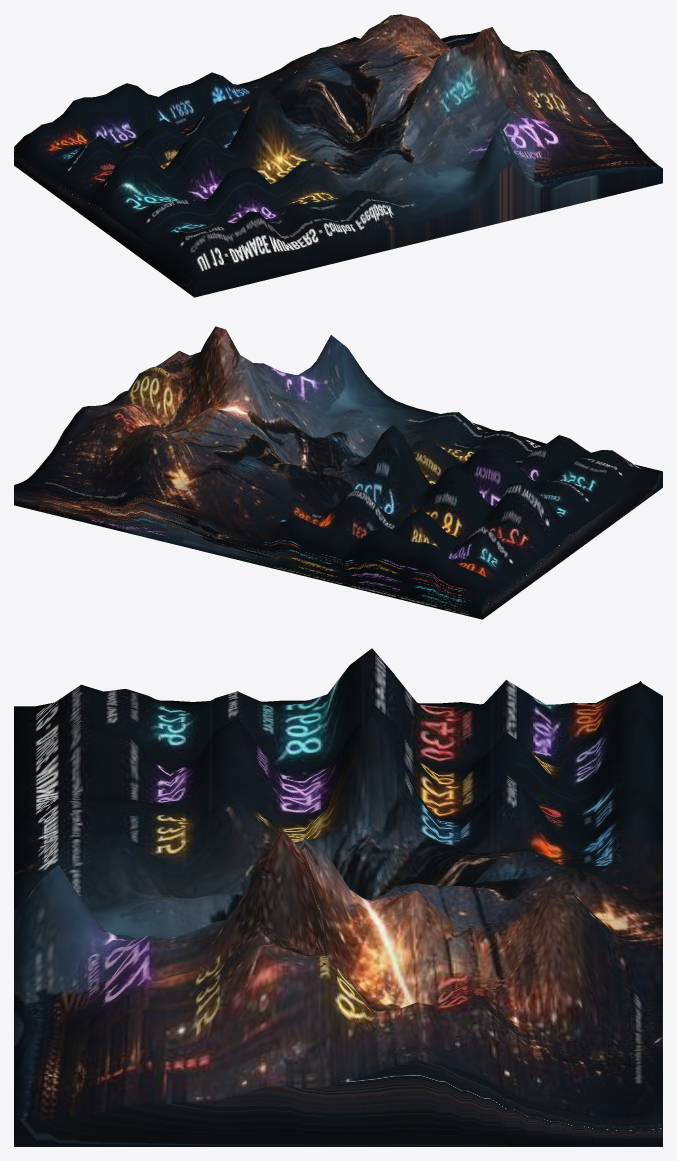
File: UI_13_Damage_Numbers.glb
3 renders of one model, top to bottom at view 1: azimuth 30°, elevation 25°; view 2: azimuth 150°, elevation 25°; view 3: azimuth 270°, elevation 25°, orthographic. The views are drawn at different scales.
Visible parts, largest first — view 1: UI_13_Damage_Numbers; view 2: UI_13_Damage_Numbers; view 3: UI_13_Damage_Numbers.
Part boxes in pixels (box(x1,y1,x2,y2)): UI_13_Damage_Numbers: box(14, 14, 662, 297); UI_13_Damage_Numbers: box(14, 326, 662, 619); UI_13_Damage_Numbers: box(14, 648, 662, 1146).
Size of the model in its own units: 2 by 0.51 by 1.33.
Materials: 1 (1 with a texture image).
